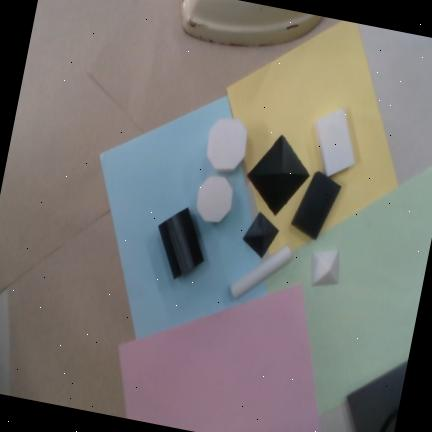Cilindro: (230, 246, 293, 300)
Paralelepipedo: (290, 171, 342, 240), (314, 107, 355, 177)
Piramide: (247, 134, 310, 216), (242, 212, 279, 259), (311, 249, 340, 287)
Prisma_hexagonal: (158, 207, 204, 279), (206, 118, 248, 173), (196, 175, 234, 223)
